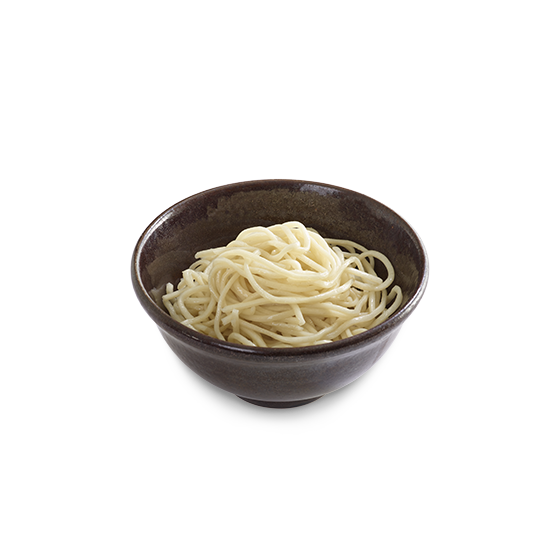plain spaghetti: (190, 232, 358, 322)
